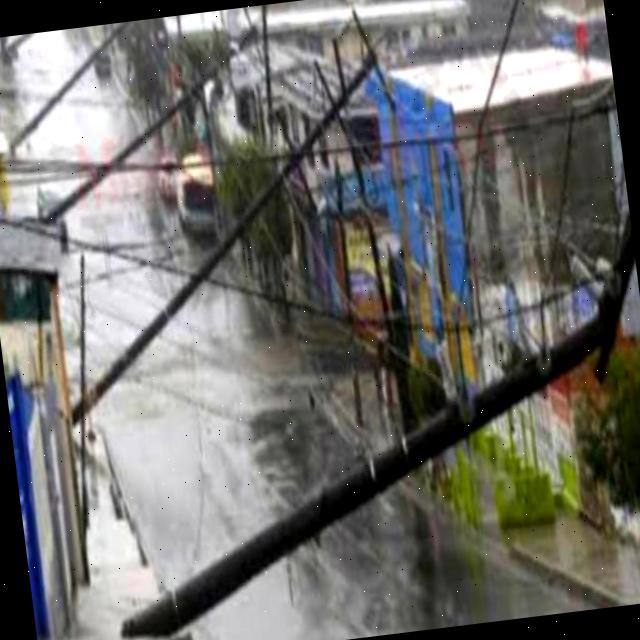Broken Pole: (112, 216, 635, 640), (65, 0, 400, 434), (46, 20, 268, 216), (8, 23, 133, 157)
